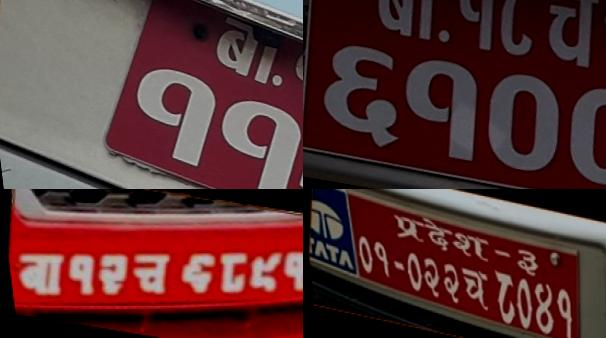0: (465, 65, 569, 180), (549, 78, 606, 189), (507, 271, 537, 333), (348, 232, 376, 278), (397, 248, 425, 294)
1: (115, 60, 225, 174), (384, 49, 488, 166), (199, 89, 303, 189), (440, 0, 504, 56), (276, 40, 303, 118), (60, 250, 102, 295), (546, 283, 577, 338), (365, 236, 395, 280), (275, 247, 303, 291)
2: (89, 248, 130, 296), (434, 256, 464, 307), (417, 252, 444, 300)
3: (511, 245, 541, 279)
4: (524, 276, 559, 338)
6: (304, 33, 410, 152), (173, 248, 219, 293)
8: (480, 0, 543, 62), (482, 267, 520, 327), (209, 248, 251, 294)
9: (242, 246, 286, 292)
ba: (202, 8, 289, 90), (360, 0, 448, 47), (9, 247, 68, 295)
cha: (526, 0, 606, 77), (452, 258, 496, 315), (124, 247, 172, 298)
